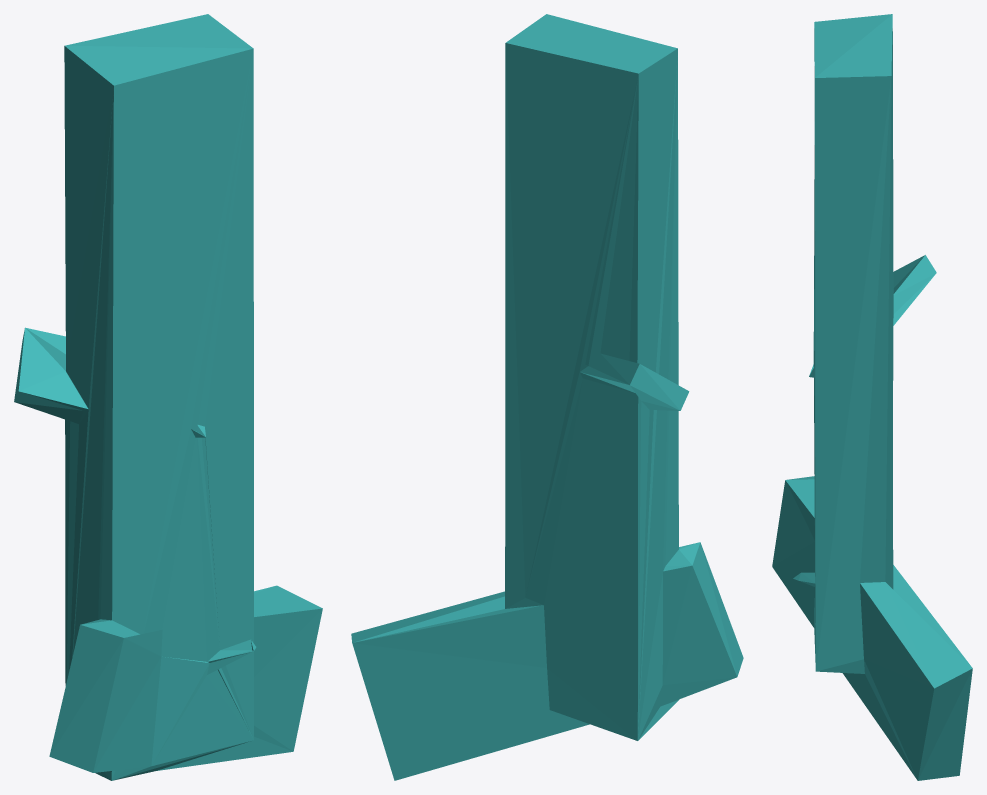
3 views of the same model, side by side, from view 1: azimuth 30°, elevation 25°; view 2: azimuth 150°, elevation 25°; view 3: azimuth 270°, elevation 25° (orthographic). The views are drawn at different scales.
Visible parts, largest first — view 1: 224_Cube.919; view 2: 224_Cube.919; view 3: 224_Cube.919.
Part boxes in pixels (x1,y1,x2,y2): 224_Cube.919: (14,14,322,780); 224_Cube.919: (351,14,743,780); 224_Cube.919: (772,14,972,780).
Size of the model in its own units: 6.15 by 13.38 by 3.64.
